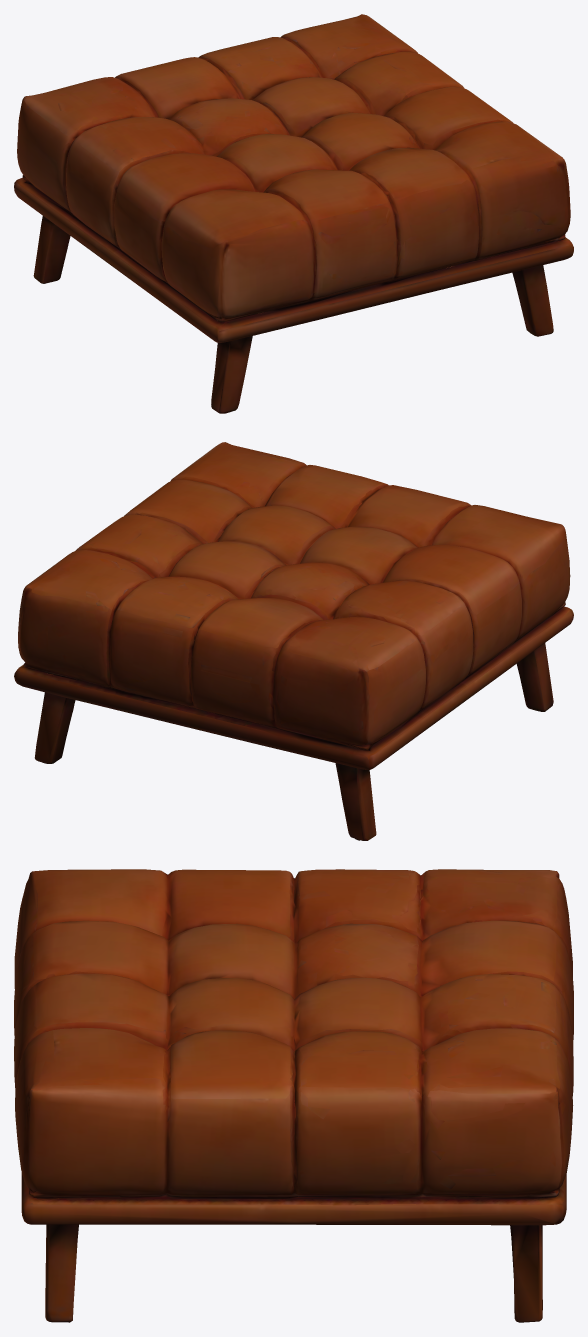
3 views of the same model, one above another, from view 1: azimuth 30°, elevation 25°; view 2: azimuth 150°, elevation 25°; view 3: azimuth 270°, elevation 25° (orthographic). The views are drawn at different scales.
Visible parts, largest first — view 1: geometry_0; view 2: geometry_0; view 3: geometry_0.
Part boxes in pixels (bbox=[...]): geometry_0: bbox=[14, 14, 573, 413]; geometry_0: bbox=[14, 442, 573, 840]; geometry_0: bbox=[14, 869, 573, 1322].
Size of the model in its own units: 0.9984 by 0.491 by 0.9985.
Materials: 1 (1 with a texture image).
